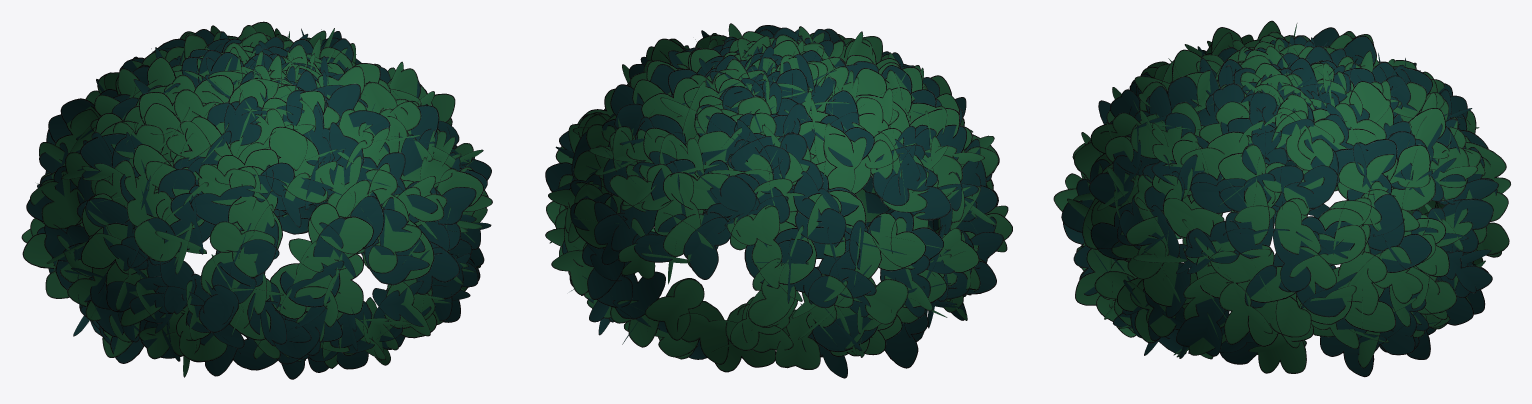
The model's file is Stylized_Bush_0 1.fbx.
The picture shows the model from 3 angles, left to right: view 1: azimuth 30°, elevation 25°; view 2: azimuth 150°, elevation 25°; view 3: azimuth 270°, elevation 25°; orthographic projection. The views are drawn at different scales.
Parts seen in each view (by area): view 1: Leaves; view 2: Leaves; view 3: Leaves.
Boxes of the visible parts, left/top/right/bottom form: Leaves: left=21, top=21, right=492, bottom=379; Leaves: left=545, top=23, right=1012, bottom=378; Leaves: left=1053, top=20, right=1510, bottom=377.
Bounding box in the file's own units: 1.78 × 1.73 × 1.14.
